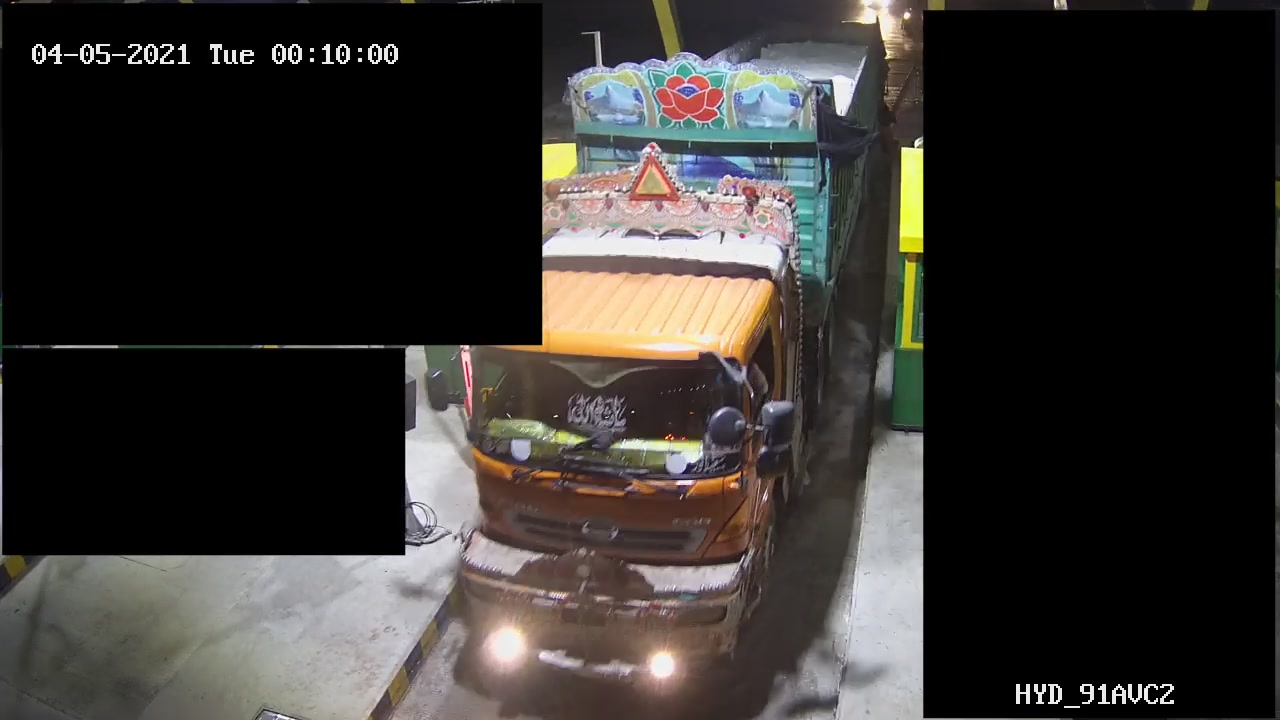F6: (428, 18, 888, 693)
